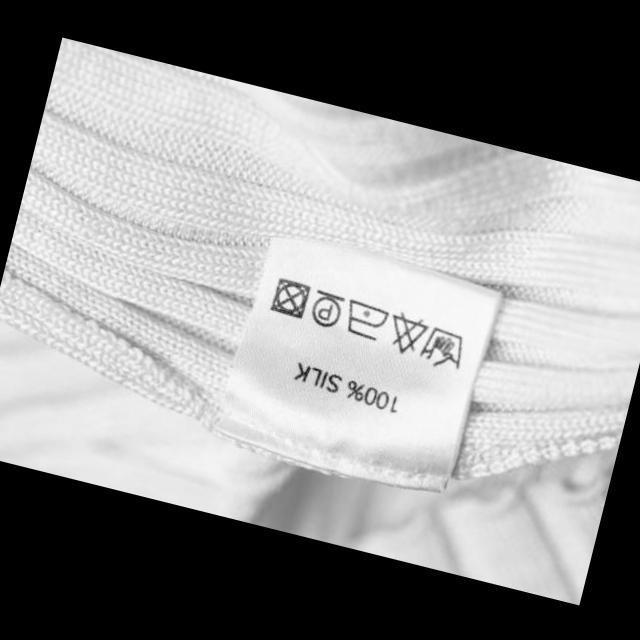DN_bleach: (380, 305, 433, 362)
DN_tumble_dry: (266, 272, 312, 322)
hand_wash: (414, 320, 471, 374)
iron_low: (338, 294, 392, 344)
normal_dry_clean_solvents: (305, 285, 347, 331)
